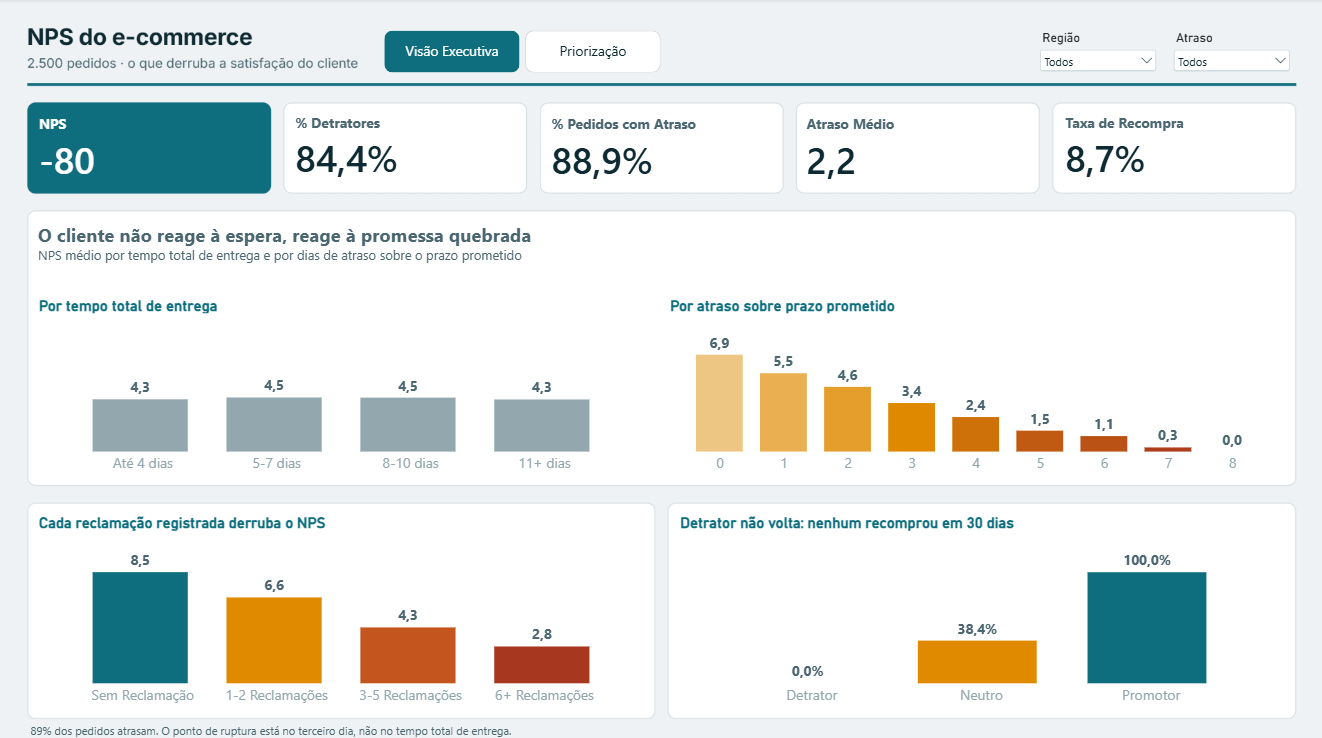

Layout of this report page (visuals, bound fields, positions):
{"tool":"powerbi","page":{"name":"Visão Executiva","canvas":[1920,1080],"ordinal":0},"visuals":[{"type":"cardVisual","fields":{"Data":["_Medidas.Taxa de Recompra"]},"box":[1529.3,150.3,345.8,135.8],"z":0},{"type":"columnChart","title":"Por atraso sobre prazo prometido","fields":{"Category":["Pedidos.delivery_delay_days"],"Y":["_Medidas.NPS Médio (nota)"]},"box":[957.1,417.8,918,290.2],"z":1000},{"type":"columnChart","title":"Por tempo total de entrega","fields":{"Category":["Pedidos.Faixa Tempo de Entrega"],"Y":["_Medidas.NPS Médio (nota)"]},"box":[43.2,417.8,913.9,290.2],"z":2000},{"type":"columnChart","title":"Cada reclamação registrada derruba o NPS","fields":{"Category":["Pedidos.Faixa de Reclamações"],"Y":["_Medidas.NPS Médio (nota)"]},"box":[43.2,732.8,913.9,310.8],"z":3000},{"type":"cardVisual","fields":{"Data":["_Medidas.NPS"]},"box":[43.2,150.3,352,140],"z":4000},{"type":"cardVisual","fields":{"Data":["_Medidas.% Detratores"]},"box":[413.7,150.3,347.9,135.8],"z":5000},{"type":"cardVisual","fields":{"Data":["_Medidas.% Pedidos com Atraso"]},"box":[786.3,150.3,349.9,140],"z":6000},{"type":"cardVisual","fields":{"Data":["_Medidas.Atraso Médio"]},"box":[1154.7,150.3,352,140],"z":7000},{"type":"textbox","box":[57.6,323.2,901.5,94.7],"z":8000},{"type":"columnChart","title":"Detrator não volta: nenhum recomprou em 30 dias","fields":{"Category":["Pedidos.nps_category"],"Y":["_Medidas.Taxa de Recompra"]},"box":[971.1,732.8,904,310.8],"z":9000},{"type":"slicer","fields":{"Values":["Pedidos.customer_region"]},"box":[1504.5,47,178,62.1],"z":10000},{"type":"slicer","fields":{"Values":["Pedidos.Faixa de Atraso"]},"box":[1696.7,46.7,178,62.1],"z":11000},{"type":"pageNavigator","box":[560,46.7,400,61.7],"z":12000},{"type":"textbox","box":[46.3,1050,1829.4,30],"z":12001}]}

Visuals, with their boxes in screenshot pixels (x1, y1, x2, y2), scaled from the page's 1920x1080 canvas onto the 1322x738 screenshot:
cardVisual - _Medidas.Taxa de Recompra: bbox=(1053, 103, 1291, 196)
"Por atraso sobre prazo prometido" columnChart: bbox=(659, 285, 1291, 484)
"Por tempo total de entrega" columnChart: bbox=(30, 285, 659, 484)
"Cada reclamação registrada derruba o NPS" columnChart: bbox=(30, 501, 659, 713)
cardVisual - _Medidas.NPS: bbox=(30, 103, 272, 198)
cardVisual - _Medidas.% Detratores: bbox=(285, 103, 524, 196)
cardVisual - _Medidas.% Pedidos com Atraso: bbox=(541, 103, 782, 198)
cardVisual - _Medidas.Atraso Médio: bbox=(795, 103, 1037, 198)
textbox: bbox=(40, 221, 660, 286)
"Detrator não volta: nenhum recomprou em 30 dias" columnChart: bbox=(669, 501, 1291, 713)
slicer - Pedidos.customer_region: bbox=(1036, 32, 1158, 75)
slicer - Pedidos.Faixa de Atraso: bbox=(1168, 32, 1291, 74)
pageNavigator: bbox=(386, 32, 661, 74)
textbox: bbox=(32, 718, 1291, 737)
